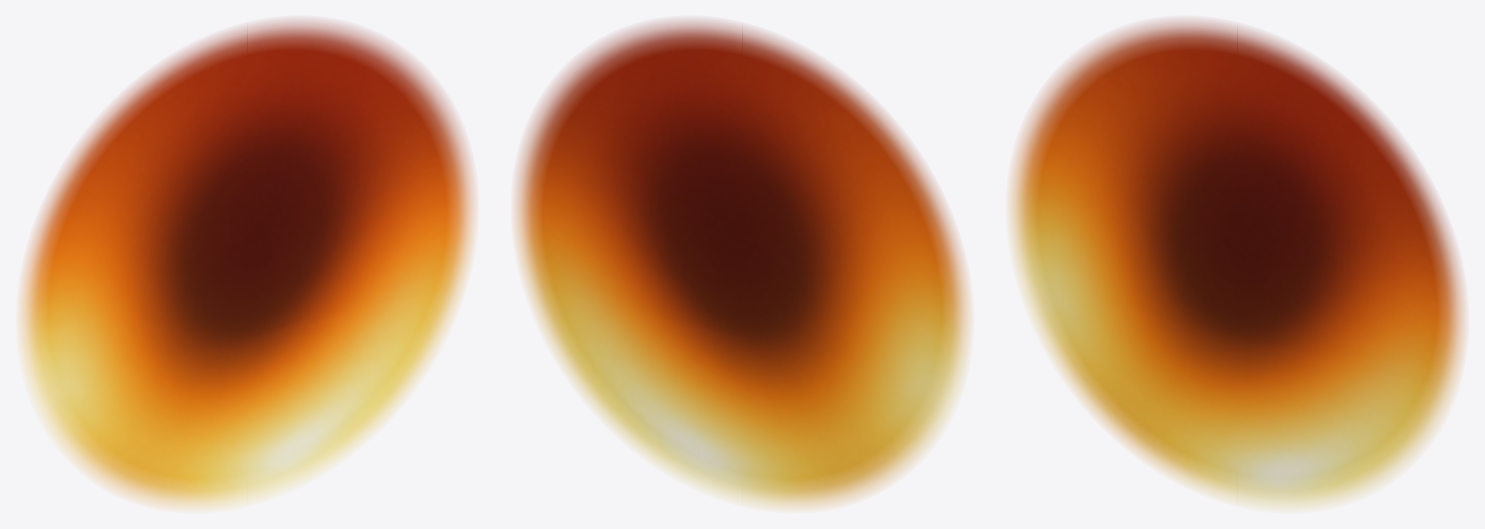
File: space3d3-m87-eht-ring.glb
3 views of the same model, side by side, from view 1: azimuth 30°, elevation 25°; view 2: azimuth 150°, elevation 25°; view 3: azimuth 330°, elevation 25° (orthographic).
Visible parts, largest first — view 1: M87 EHT sky plane; view 2: M87 EHT sky plane; view 3: M87 EHT sky plane.
Boxes of the visible parts, left/top/right/bottom form: M87 EHT sky plane: left=20, top=20, right=474, bottom=508; M87 EHT sky plane: left=515, top=20, right=969, bottom=508; M87 EHT sky plane: left=1010, top=20, right=1464, bottom=508.
Bounding box in the file's own units: 1.31e+11 × 1.31e+11 × 0.
1 material, 1 textured.
